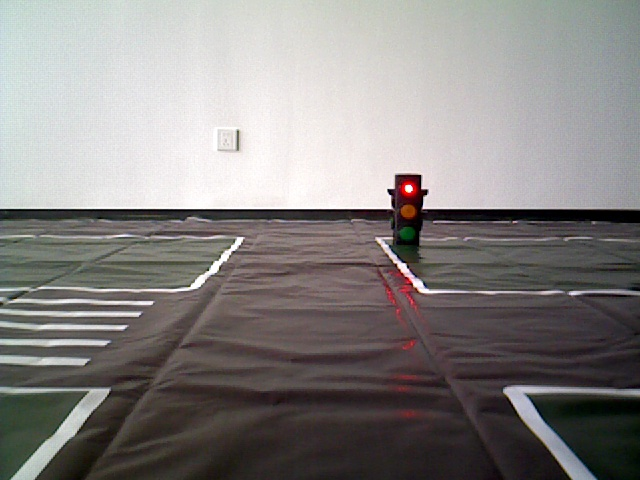red: (396, 171, 416, 242)
